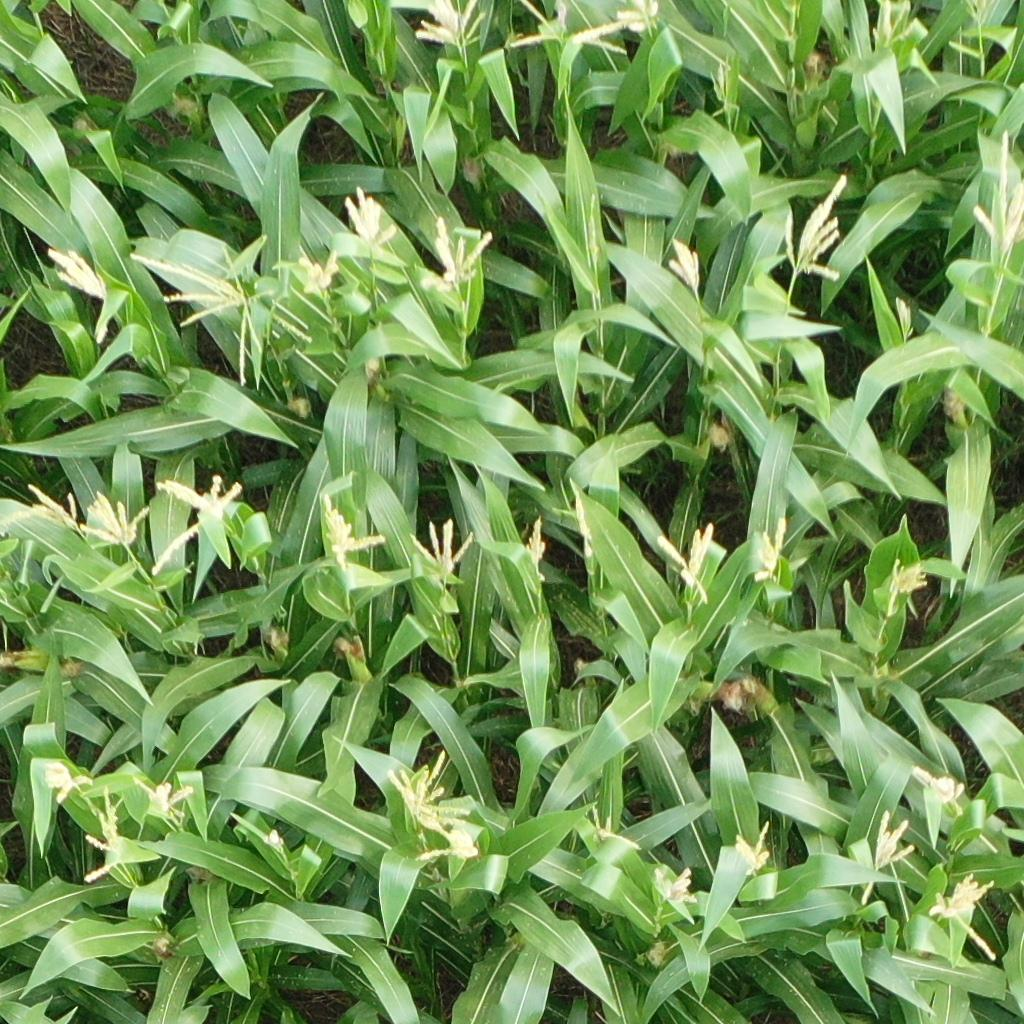Tassel: (127, 240, 309, 392), (149, 470, 246, 578), (386, 748, 473, 845), (926, 867, 1006, 963), (782, 175, 853, 282), (510, 1, 627, 60), (971, 128, 1024, 250), (653, 521, 721, 614), (417, 217, 495, 294), (315, 493, 391, 572), (74, 489, 152, 556), (80, 786, 130, 884), (1, 476, 82, 533), (414, 1, 489, 55), (408, 516, 478, 572), (341, 184, 398, 250), (44, 246, 109, 299), (869, 808, 921, 874), (883, 554, 931, 618), (412, 826, 484, 868), (133, 772, 195, 820), (750, 516, 791, 588), (731, 818, 777, 882), (912, 766, 967, 815), (588, 805, 644, 853), (297, 245, 344, 298), (650, 862, 701, 910), (41, 761, 95, 805), (875, 1, 918, 47), (522, 516, 552, 579), (667, 238, 704, 289), (570, 486, 595, 559), (615, 1, 663, 32), (586, 197, 604, 262), (713, 54, 734, 99), (261, 827, 291, 856), (963, 1, 990, 24), (899, 299, 912, 331)
